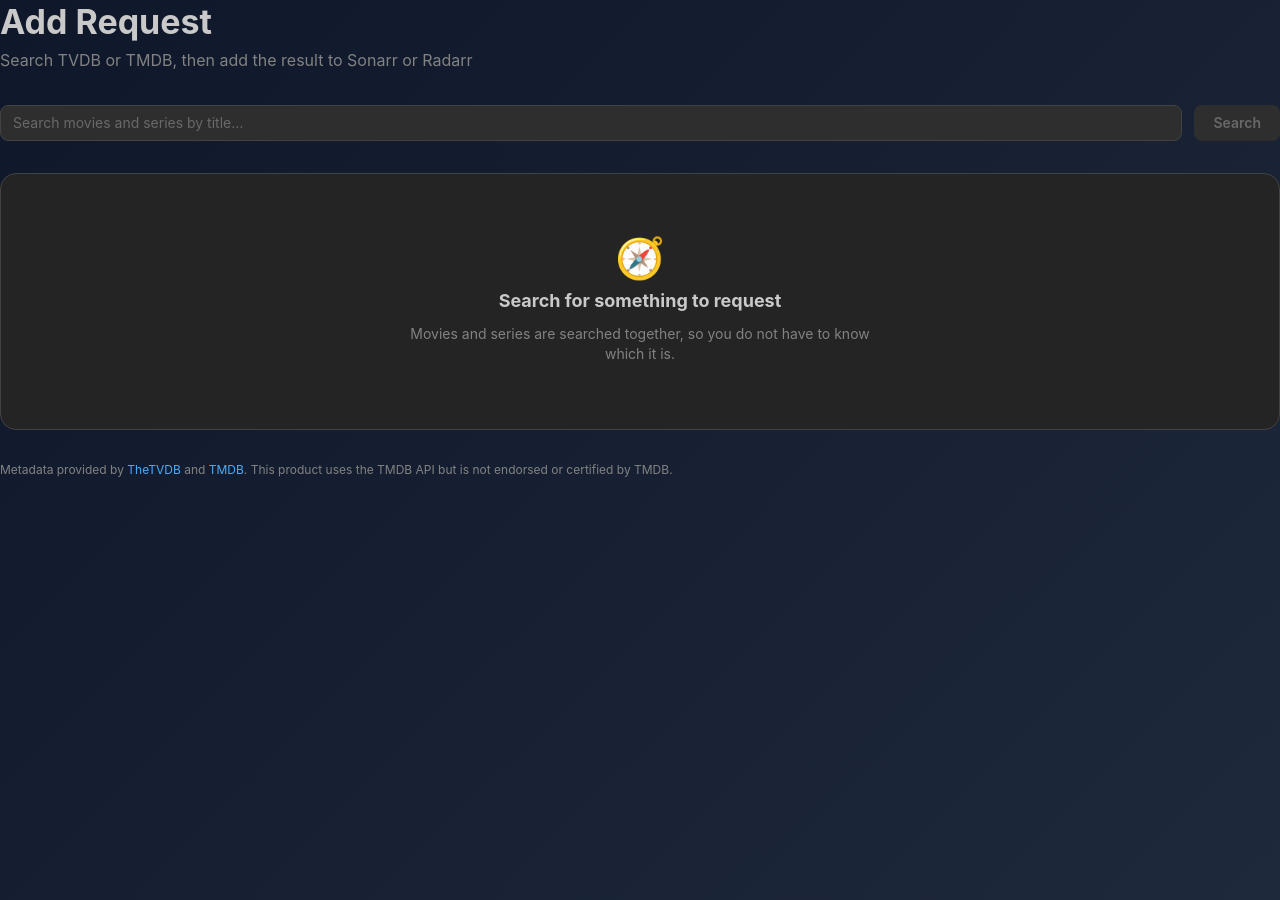
it: AddRequestPage on a phone › still shows the subtitle and synopsis on a desktop
The width and height of the screenshot is (1280, 900).
Expected: the text "Search TVDB or TMDB, then add the result to Sonarr or Radarr" is shown, [0,50,473,70]
Type "thrones" into the search field at [591, 123], box [0,105,1182,141]
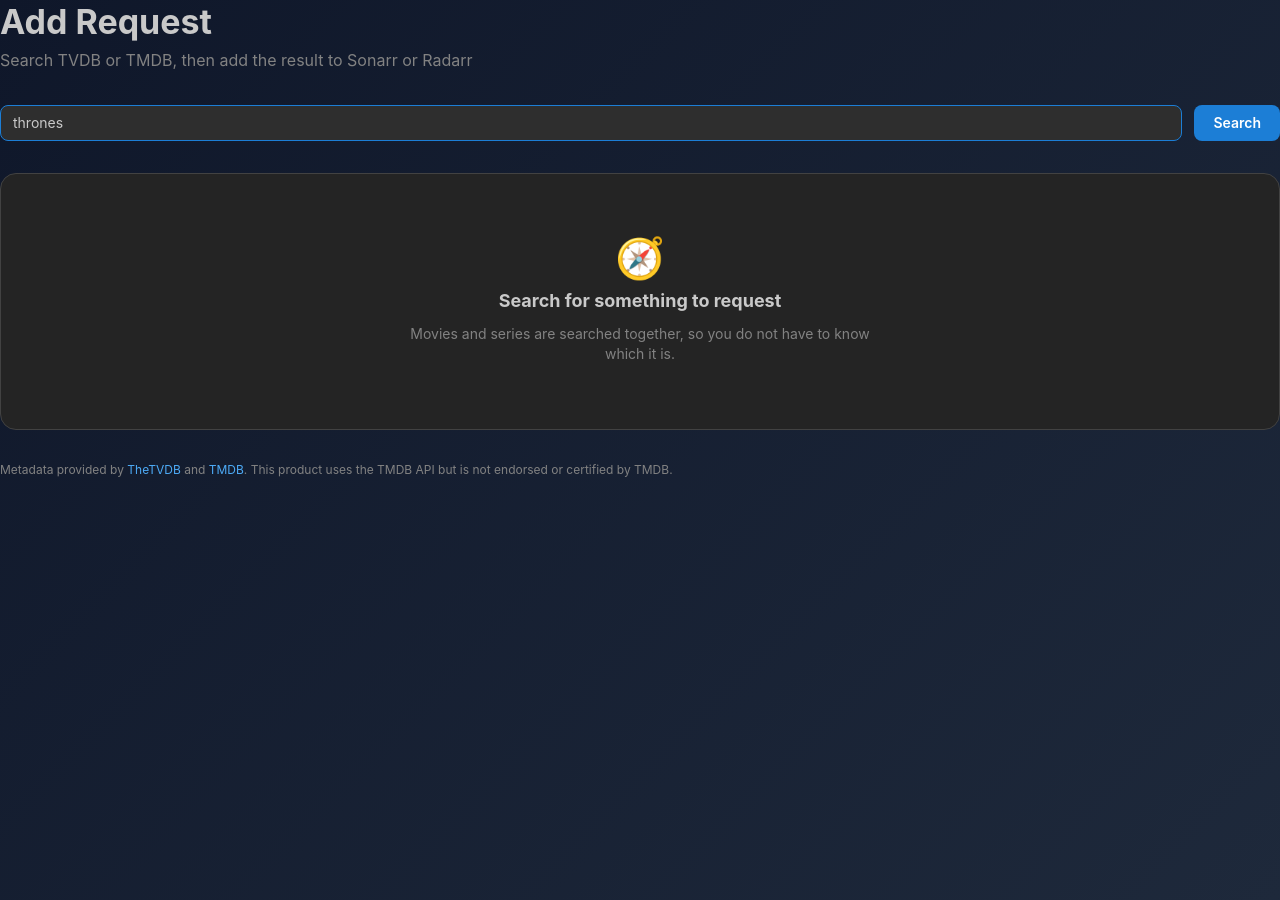
Click the button "Search" at [1237, 123], box [1194,105,1279,141]
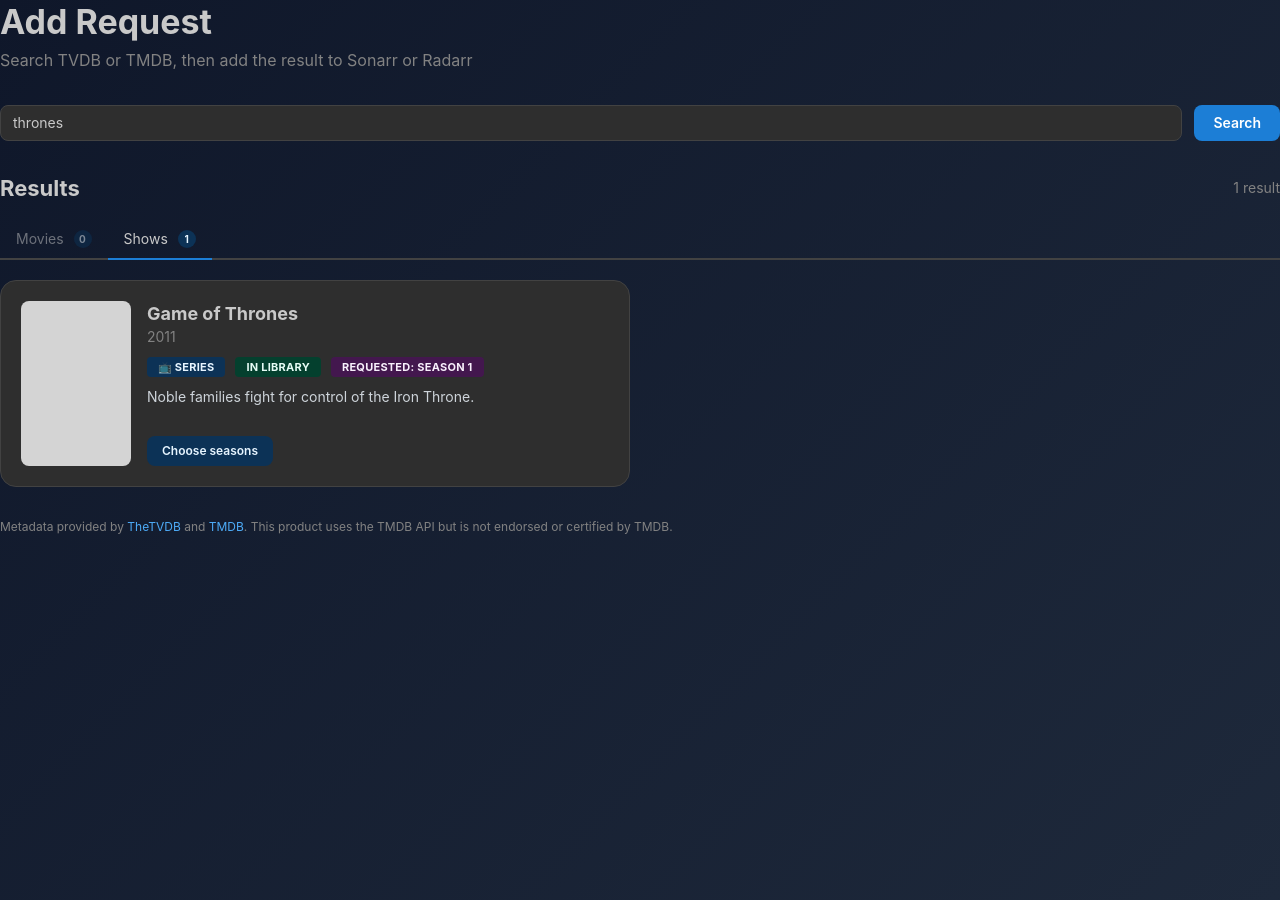
Expected: the text "Noble families fight for control of the Iron Throne." is shown, [147,388,474,405]
